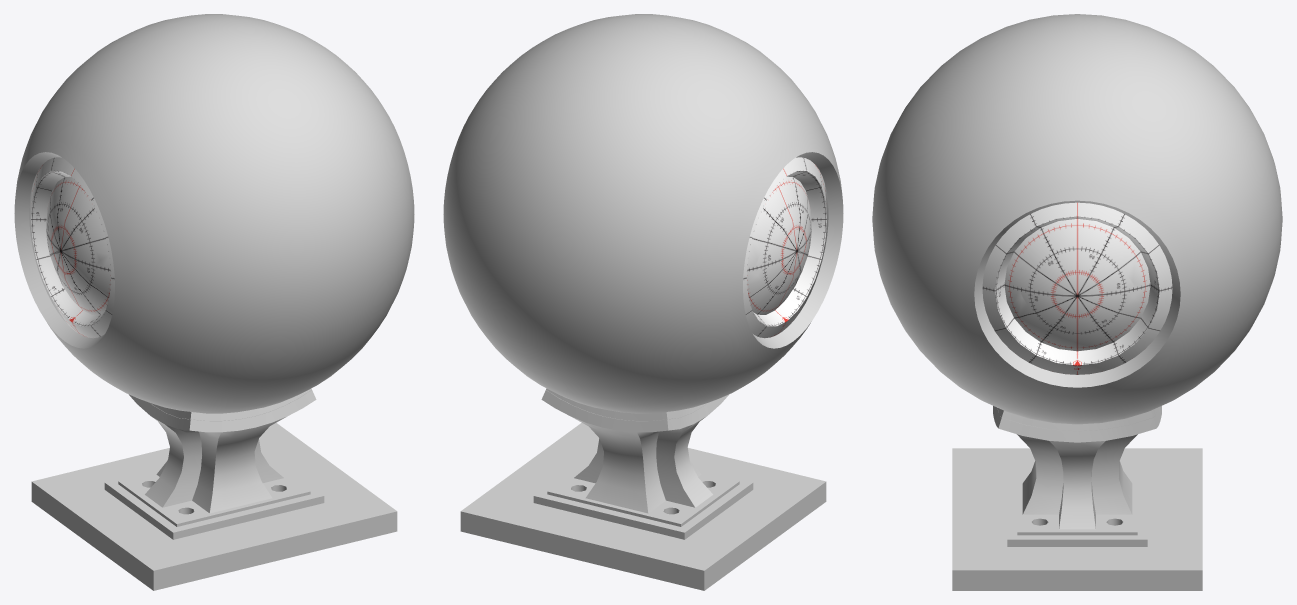
3 views of the same model, side by side, from view 1: azimuth 30°, elevation 25°; view 2: azimuth 150°, elevation 25°; view 3: azimuth 270°, elevation 25° (orthographic). The views are drawn at different scales.
Visible parts, largest first — view 1: testgeometry_shaderball1; view 2: testgeometry_shaderball1; view 3: testgeometry_shaderball1.
Part boxes in pixels (x1,y1,x2,y2): testgeometry_shaderball1: (14,14,414,590); testgeometry_shaderball1: (443,14,843,590); testgeometry_shaderball1: (872,14,1282,590).
Size of the model in its own units: 0.4793 by 0.7208 by 0.5399.
Materials: 1 (1 with a texture image).
